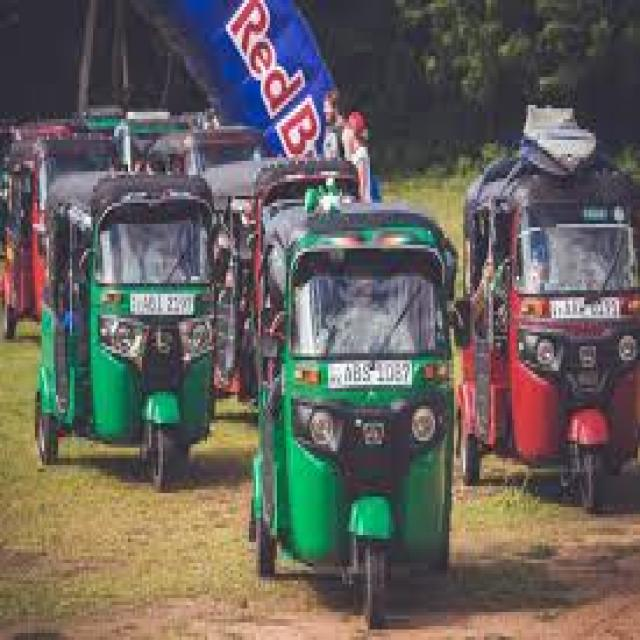tuktuk: (237, 146, 502, 634), (2, 133, 233, 525), (453, 84, 640, 542)
